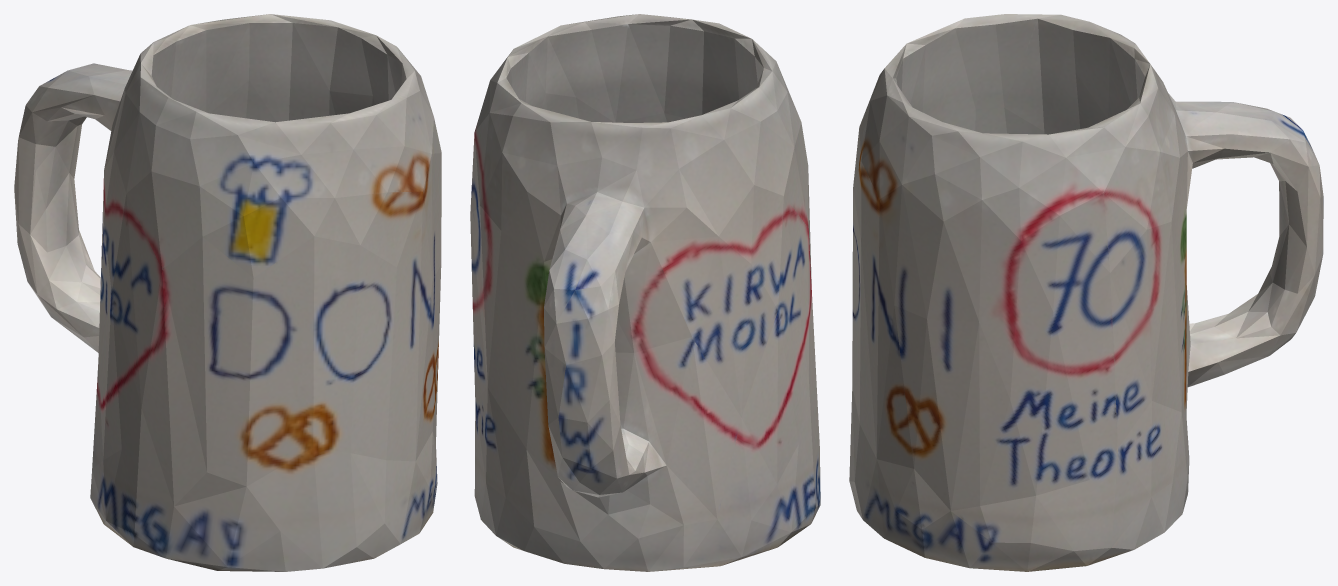
3 views of the same model, side by side, from view 1: azimuth 30°, elevation 25°; view 2: azimuth 150°, elevation 25°; view 3: azimuth 270°, elevation 25° (orthographic).
Parts seen in each view (by area): view 1: Krug Doni_0.9k_0.5k; view 2: Krug Doni_0.9k_0.5k; view 3: Krug Doni_0.9k_0.5k.
Part boxes in pixels (left/top/right/bottom): Krug Doni_0.9k_0.5k: left=14, top=14, right=441, bottom=571; Krug Doni_0.9k_0.5k: left=470, top=14, right=820, bottom=571; Krug Doni_0.9k_0.5k: left=849, top=14, right=1323, bottom=571.
Bounding box in the file's own units: 0.1 × 0.1378 × 0.1353.
Materials: 1 (1 with a texture image).
